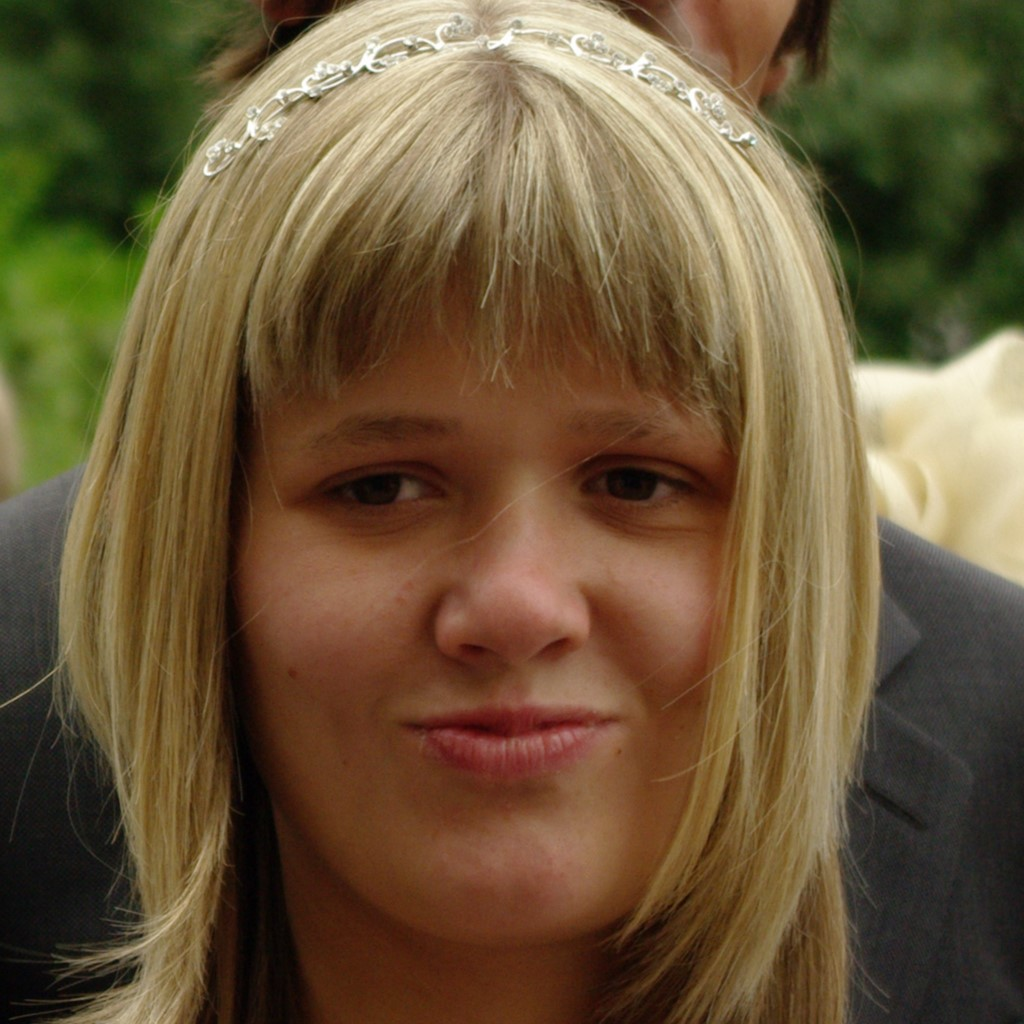sin_mascara: (233, 190, 779, 917)
